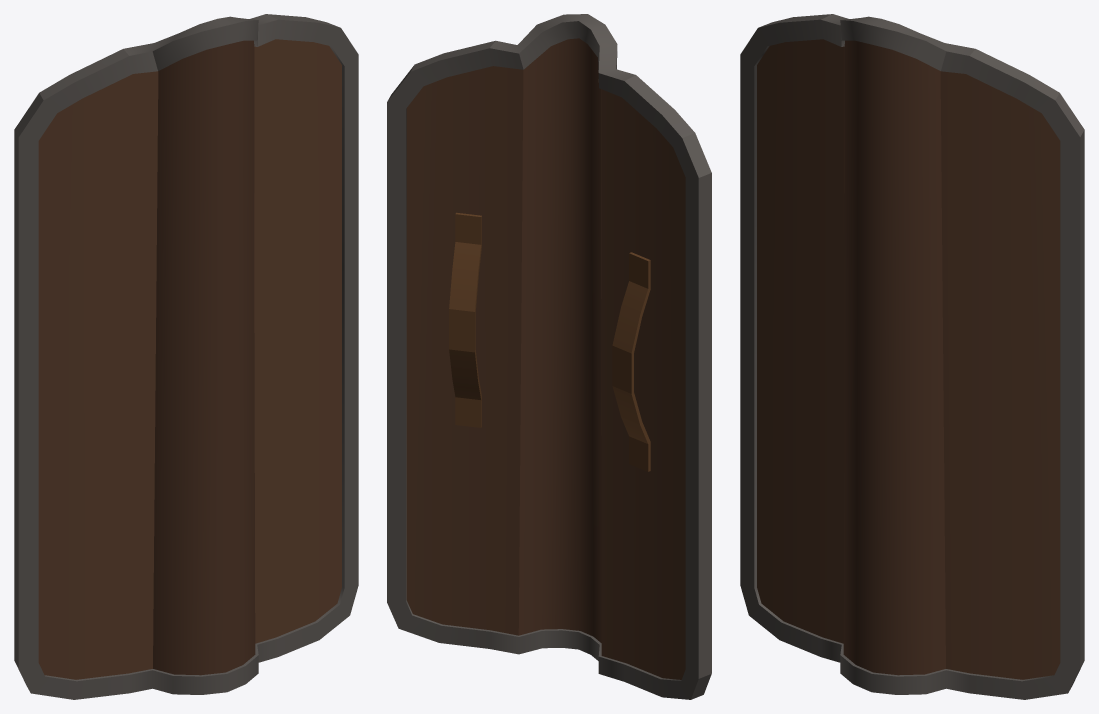
File: Pavise Shield_Brown.glb
3 renders of one model, left to right at view 1: azimuth 30°, elevation 25°; view 2: azimuth 150°, elevation 25°; view 3: azimuth 330°, elevation 25°, orthographic. The views are drawn at different scales.
Visible parts, largest first — view 1: Pavise Shield_Brown; view 2: Pavise Shield_Brown; view 3: Pavise Shield_Brown.
Boxes of the visible parts, box(x1,y1,x2,y2) form: Pavise Shield_Brown: box(14, 14, 358, 699); Pavise Shield_Brown: box(387, 14, 711, 699); Pavise Shield_Brown: box(740, 14, 1084, 699).
Bounding box in the file's own units: 0.6521 × 1.22 × 0.1693.
1 material, 1 textured.
